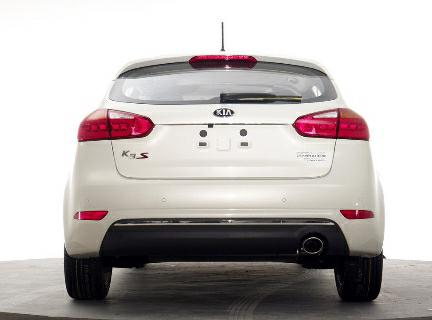起亚-K3S: (56, 19, 395, 306)
